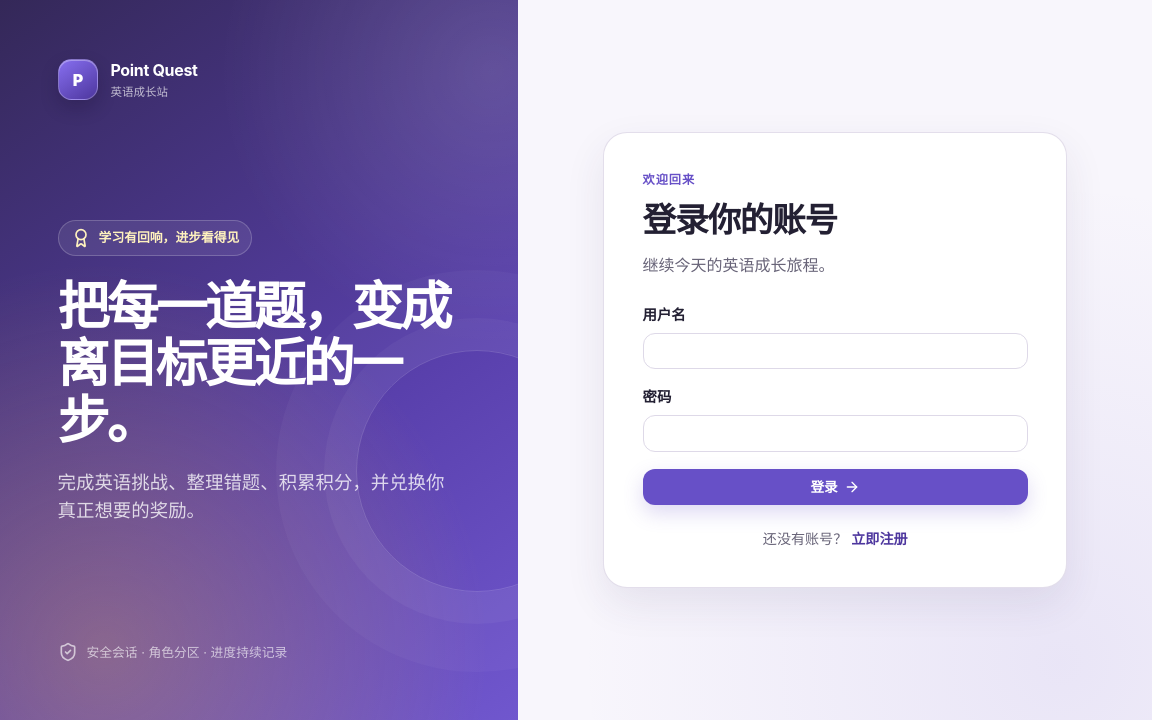
Test case: 认证表单 › 登录失败保留用户名并显示可恢复错误
Type "learner_01" into the field labelled "用户名".
click(835, 351); type("learner_01")  # box [643, 333, 1028, 369]
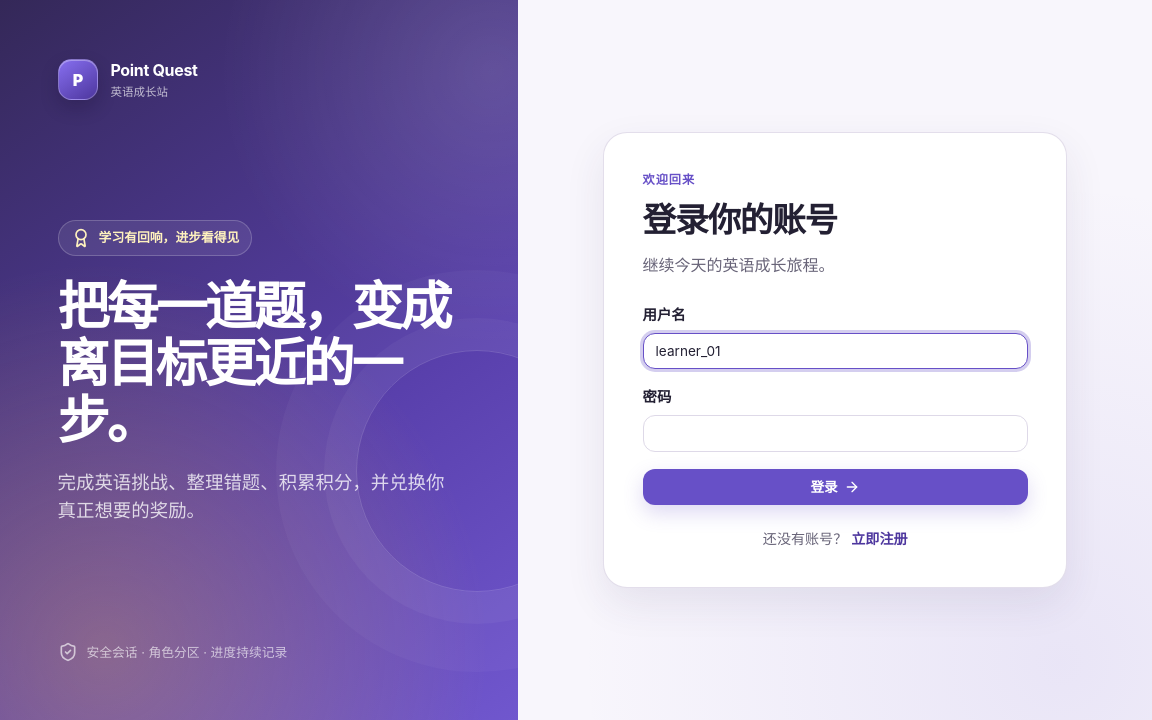
Type "wrong-password" into the password field labelled "密码".
click(835, 433); type("wrong-password")  # box [643, 415, 1028, 452]
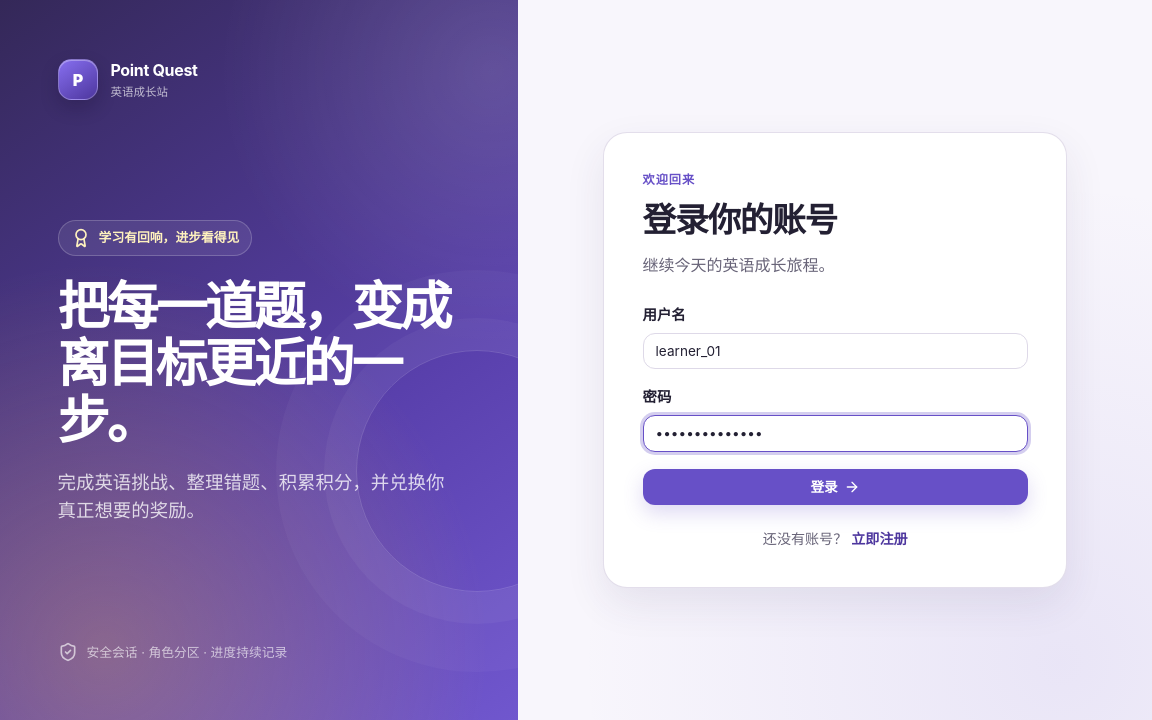
Click the button "登录".
click(835, 487)  # box [643, 468, 1028, 505]
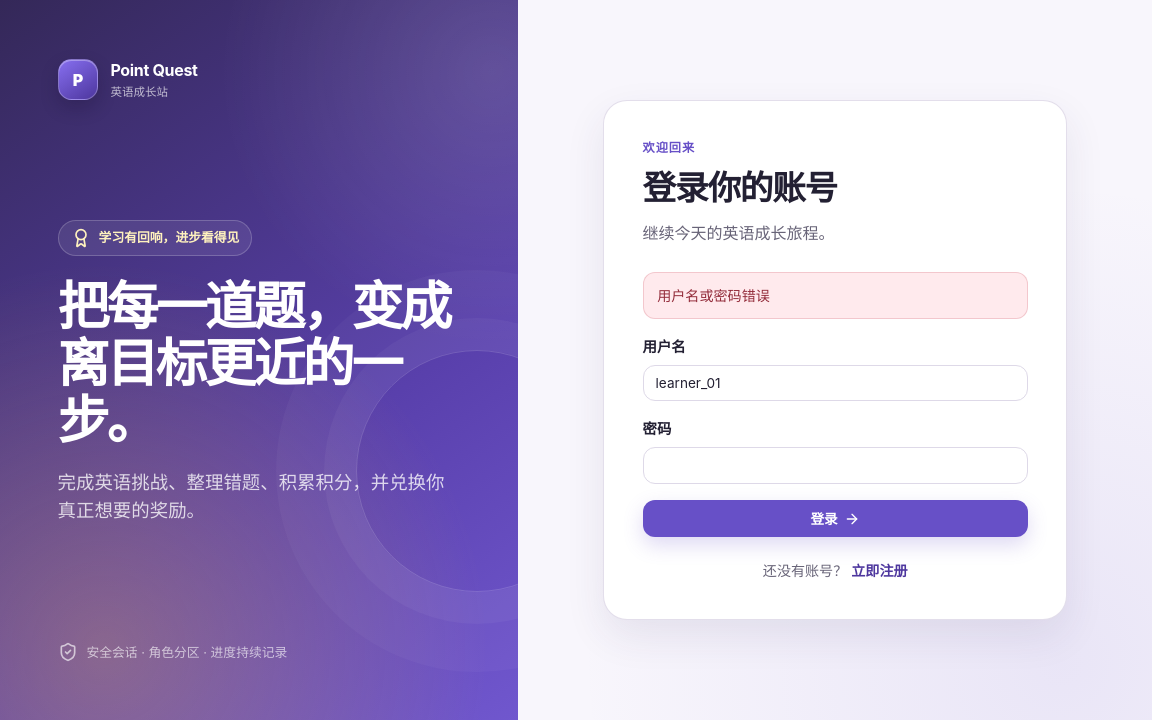
Now the message reads "用户名或密码错误", box [657, 287, 770, 304]
Now the password field labelled "密码" is empty, box [643, 447, 1028, 484]
